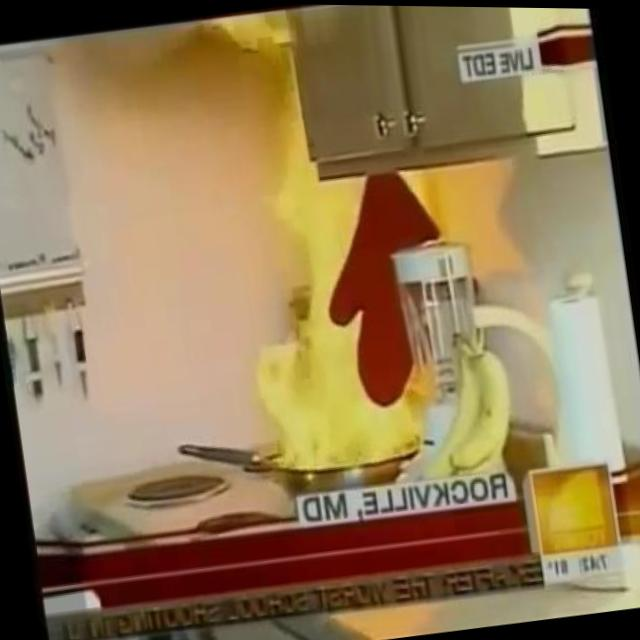fire: (217, 59, 456, 476), (170, 6, 298, 70)
